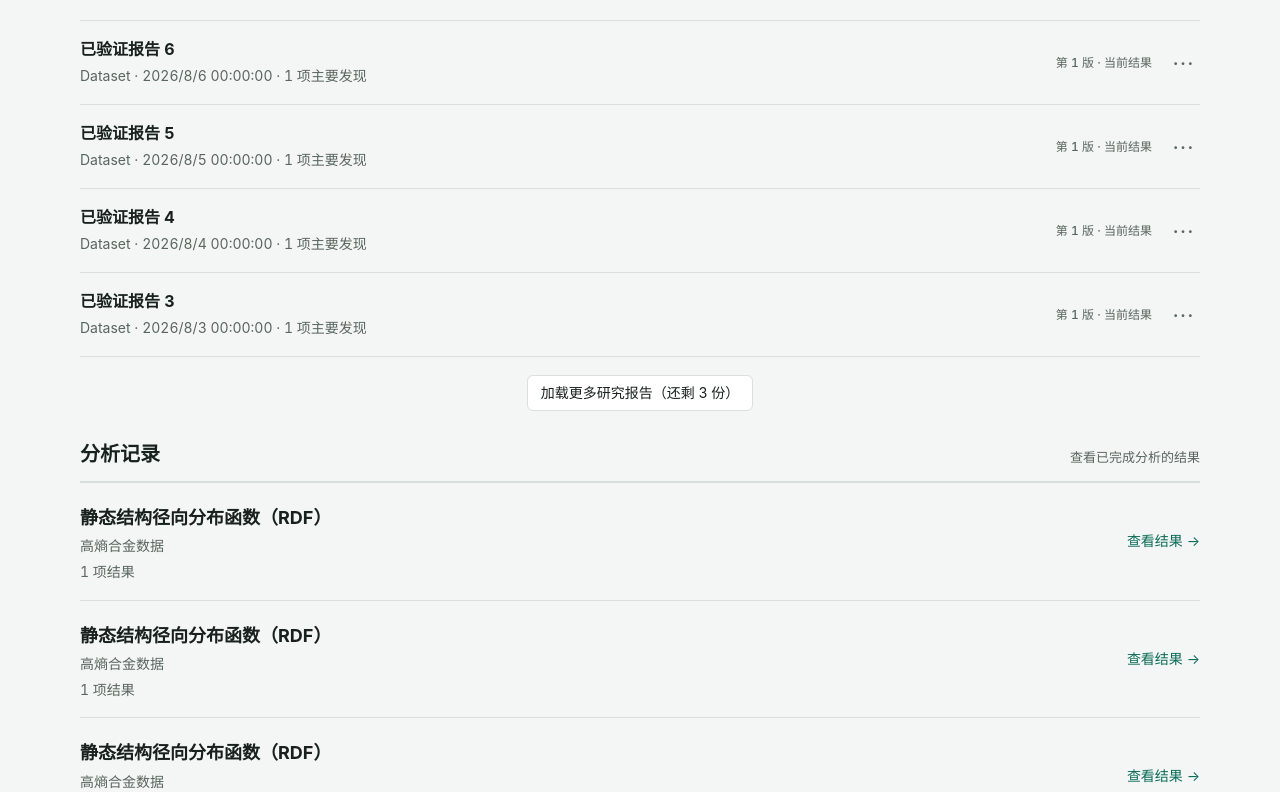
Scenario: searches both report authorities and progressively reveals long ledgers
(page scrolled)
expect the link "目标结构报告" is not shown: met
Click the button "加载更多研究报告（还剩 3 份）" at (640, 393), box [527, 375, 753, 411]
(page scrolled)
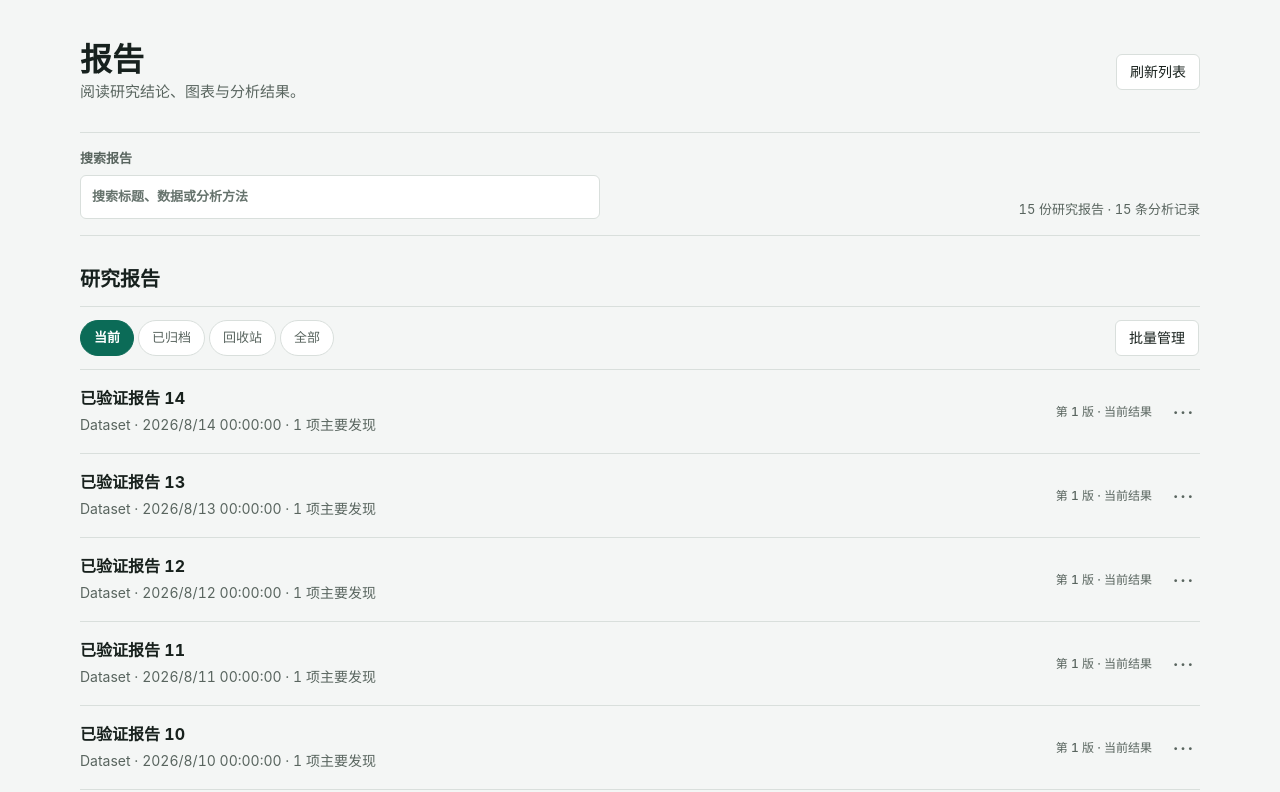
Type "目标" into the search field labelled "搜索报告" at (340, 197), box [80, 175, 600, 219]
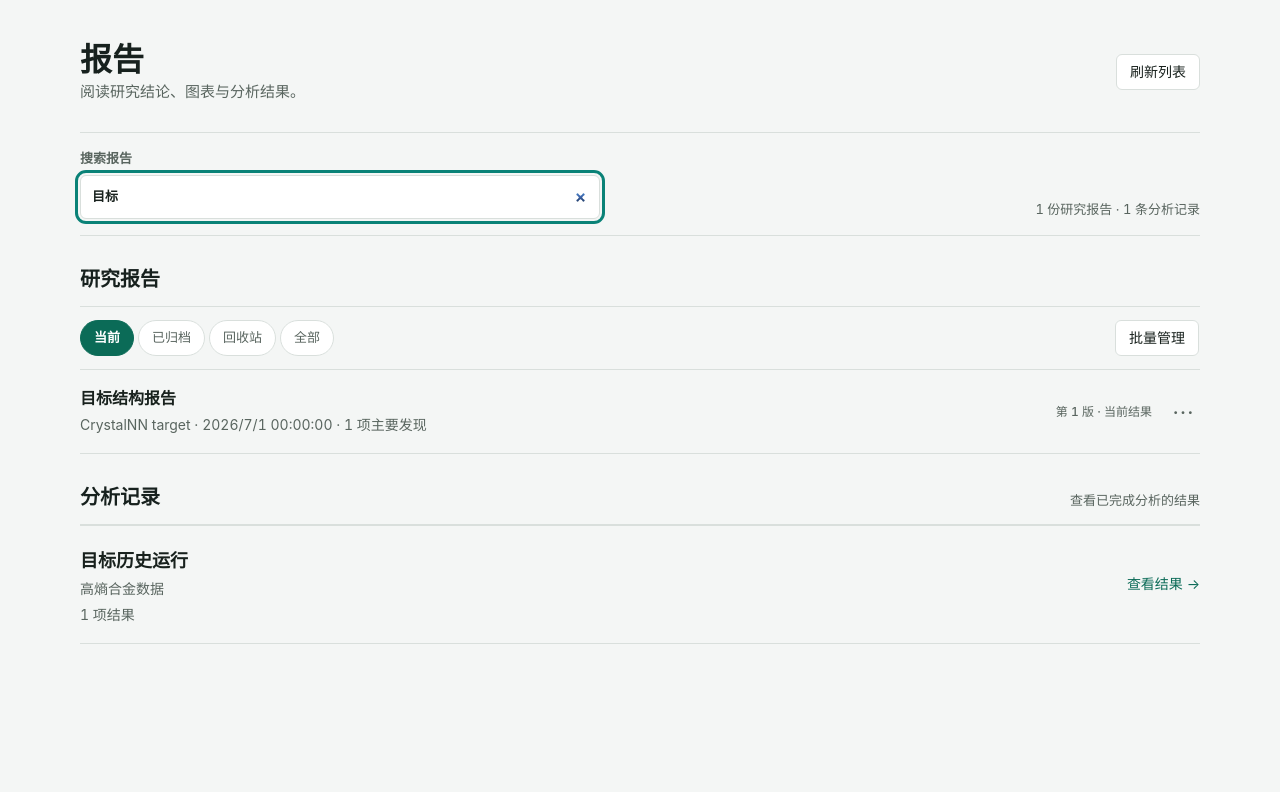
expect the link "目标结构报告" is shown: met, box [80, 388, 1152, 433]
expect the text "1 份研究报告 · 1 条分析记录" is shown: met, box [1035, 200, 1200, 219]
expect the link "已验证报告 1" is gone: met
